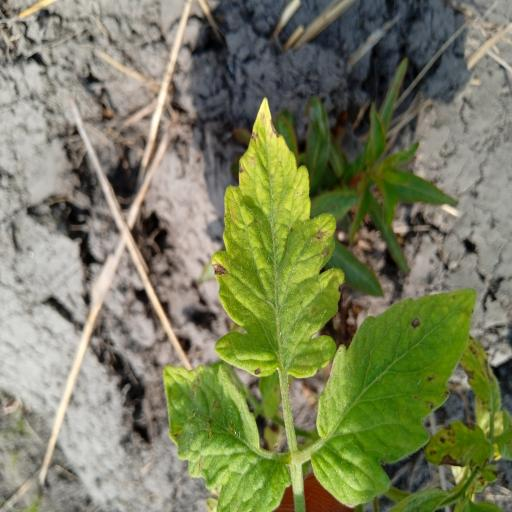Tomato_Brown_Spots: (304, 274, 485, 512), (207, 94, 348, 382), (159, 361, 293, 512)
